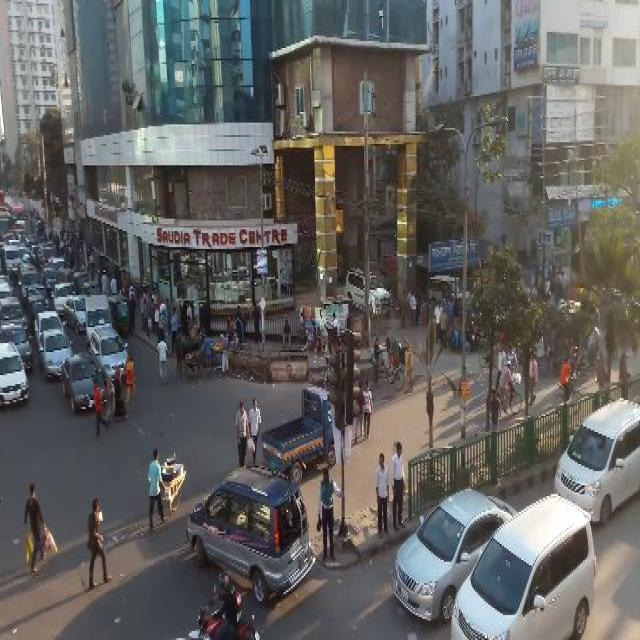car: (392, 486, 522, 628), (553, 395, 638, 510), (61, 347, 107, 416), (339, 263, 390, 311), (88, 322, 130, 373), (0, 338, 29, 410), (38, 326, 74, 380), (39, 325, 75, 377), (0, 320, 33, 366), (34, 304, 66, 341), (51, 279, 74, 309)
motorcycle: (169, 571, 268, 638), (365, 327, 406, 397), (106, 290, 130, 334), (449, 316, 474, 352), (70, 268, 90, 292)
truck: (449, 489, 601, 636), (184, 462, 318, 596), (260, 384, 342, 478), (425, 270, 470, 308), (83, 290, 114, 343), (15, 256, 43, 297), (35, 237, 58, 270), (1, 242, 24, 274)
